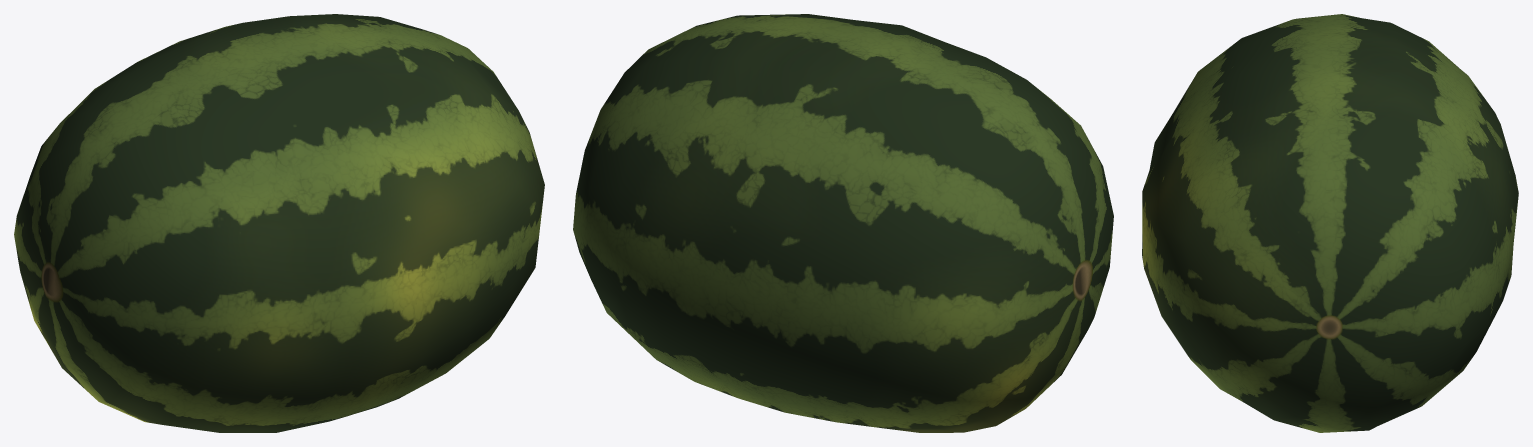
3 views of the same model, side by side, from view 1: azimuth 30°, elevation 25°; view 2: azimuth 150°, elevation 25°; view 3: azimuth 270°, elevation 25° (orthographic). The views are drawn at different scales.
Visible parts, largest first — view 1: WaterMelon low.002; view 2: WaterMelon low.002; view 3: WaterMelon low.002.
Part boxes in pixels (bbox=[...]): WaterMelon low.002: bbox=[14, 14, 544, 432]; WaterMelon low.002: bbox=[573, 14, 1113, 432]; WaterMelon low.002: bbox=[1142, 14, 1518, 432].
Bounding box in the file's own units: 0.677 × 0.5067 × 0.5124.
Materials: 1 (1 with a texture image).
